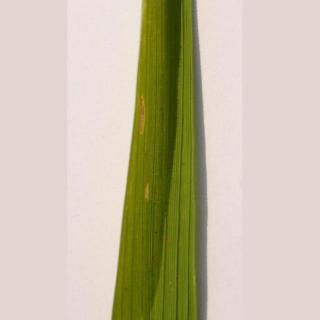Hawar-Daun: (132, 91, 155, 147), (133, 175, 158, 208)
